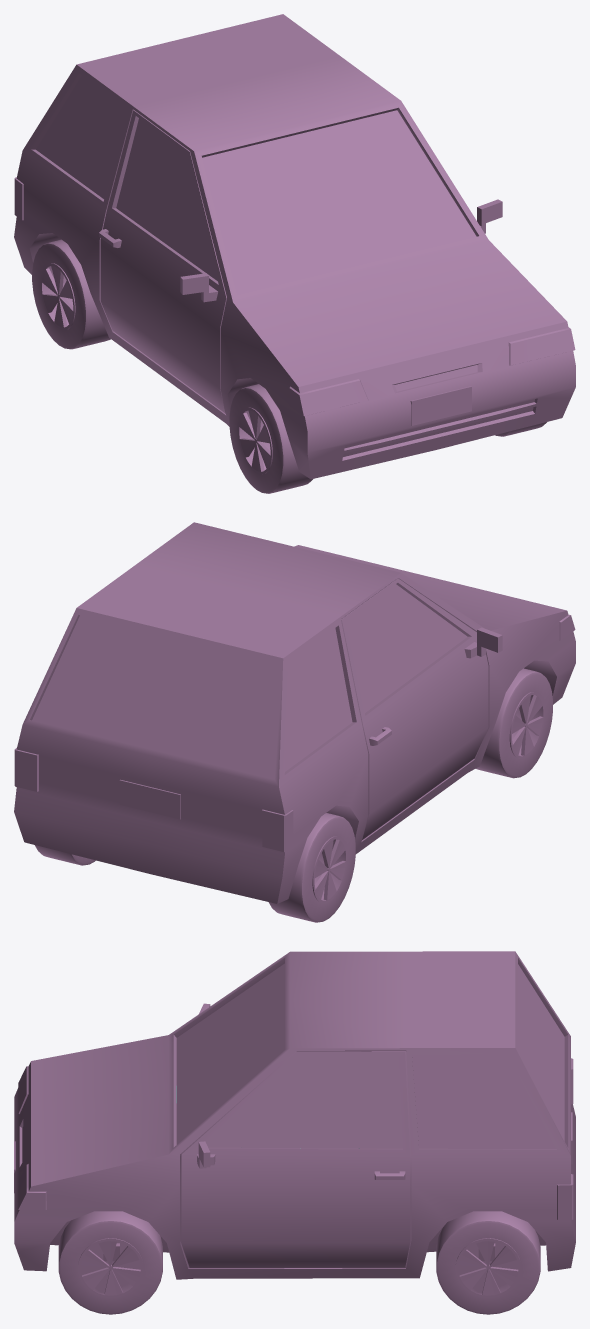
The model's file is Car.fbx.
3 renders of one model, top to bottom at view 1: azimuth 30°, elevation 25°; view 2: azimuth 150°, elevation 25°; view 3: azimuth 270°, elevation 25°, orthographic. The views are drawn at different scales.
Visible parts, largest first — view 1: Box001, windows, Box008, win door r.001, Cylinder004, Cylinder003, Box005, number001, Rim003, Rim002, Box009; view 2: Box001, windows, Box008, win door r.001, Cylinder003, Cylinder004, number, Rim003, Rim002, Box002, Box003, Box009 (+1 smaller); view 3: Box001, Driver Door, windows, win door l.001, Cylinder002, Cylinder001, Rim001, Rim, Box005.
Boxes of the visible parts, x1,y1,x2,y2 form: Box001: [14, 14, 575, 479]; windows: [36, 75, 476, 294]; Box008: [100, 110, 226, 413]; win door r.001: [116, 118, 217, 281]; Cylinder004: [229, 384, 312, 493]; Cylinder003: [32, 239, 110, 349]; Box005: [289, 327, 575, 415]; number001: [410, 386, 471, 425]; Rim003: [239, 410, 270, 471]; Rim002: [42, 266, 73, 327]; Box009: [180, 273, 217, 302]; Box001: [14, 522, 575, 903]; windows: [32, 615, 352, 779]; Box008: [341, 578, 488, 839]; win door r.001: [346, 584, 467, 712]; Cylinder003: [268, 813, 355, 922]; Cylinder004: [476, 668, 552, 778]; number: [119, 779, 180, 819]; Rim003: [512, 695, 543, 755]; Rim002: [315, 839, 345, 900]; Box002: [14, 748, 293, 832]; Box003: [14, 766, 293, 844]; Box009: [464, 627, 502, 658]; Box001: [14, 951, 575, 1279]; Driver Door: [180, 1051, 411, 1268]; windows: [176, 963, 564, 1148]; win door l.001: [205, 1054, 402, 1148]; Cylinder002: [436, 1211, 540, 1314]; Cylinder001: [58, 1211, 162, 1314]; Rim001: [458, 1241, 518, 1295]; Rim: [81, 1241, 140, 1295]; Box005: [18, 1066, 46, 1209].
Bounding box in the file's own units: 85.69 × 67.46 × 136.
